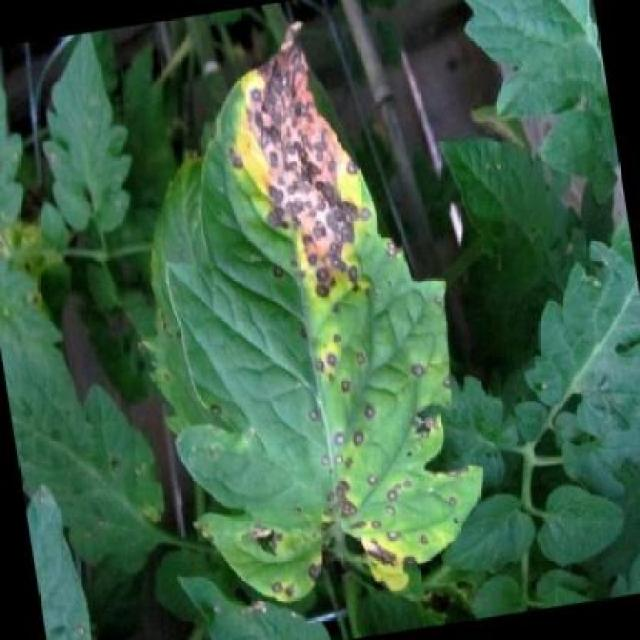Septoria leaf spot: (100, 4, 505, 639)
